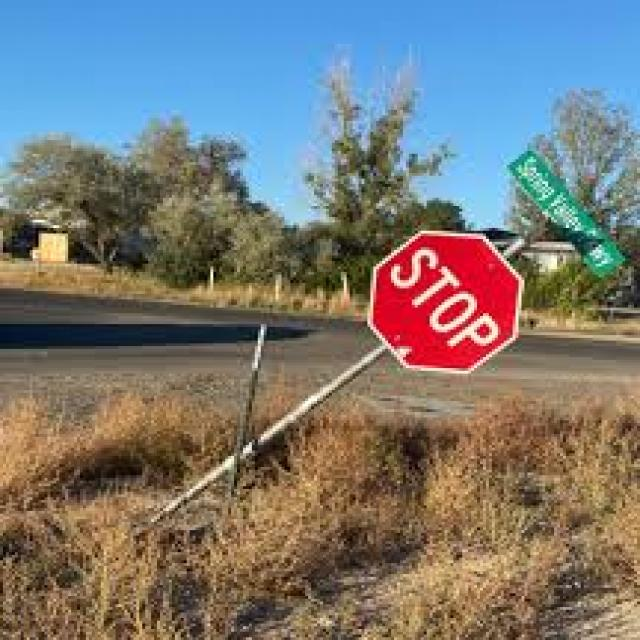stop-sign: (366, 201, 554, 388)
